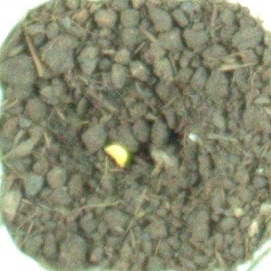pepper seed: (36, 56, 170, 227)
